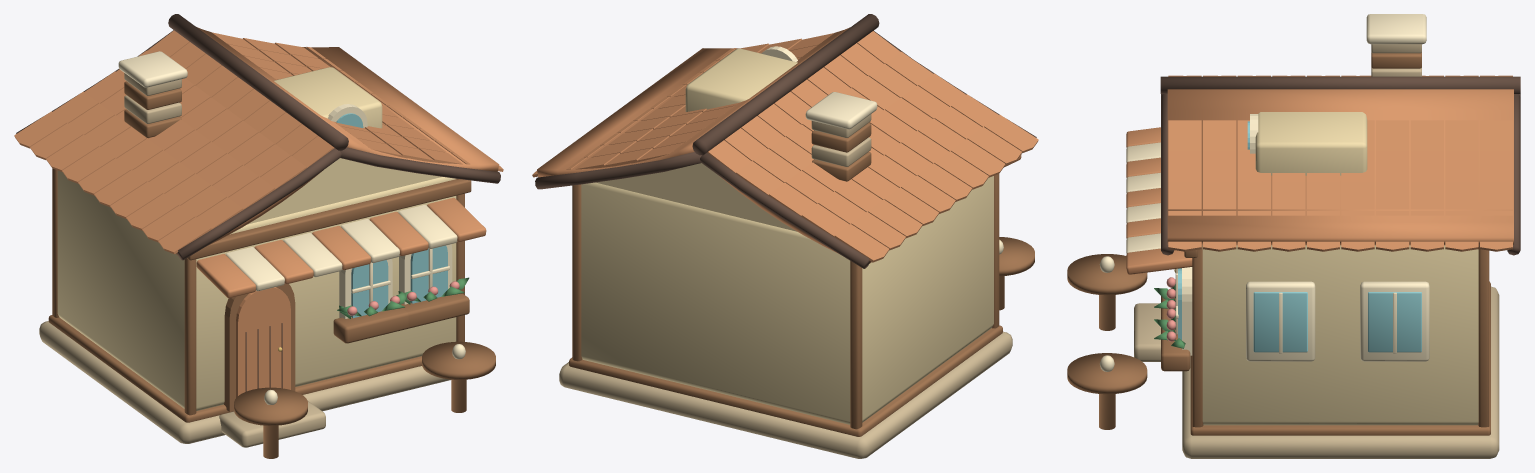
File: bakery.glb
3 views of the same model, side by side, from view 1: azimuth 30°, elevation 25°; view 2: azimuth 150°, elevation 25°; view 3: azimuth 270°, elevation 25° (orthographic). The views are drawn at different scales.
Parts seen in each view (by area): view 1: bakery_crafted_mesh; view 2: bakery_crafted_mesh; view 3: bakery_crafted_mesh.
Part boxes in pixels (x1,y1,x2,y2): bakery_crafted_mesh: [14, 14, 503, 458]; bakery_crafted_mesh: [532, 14, 1038, 458]; bakery_crafted_mesh: [1067, 14, 1520, 458].
Bounding box in the file's own units: 5 × 4.2 × 5.44.
